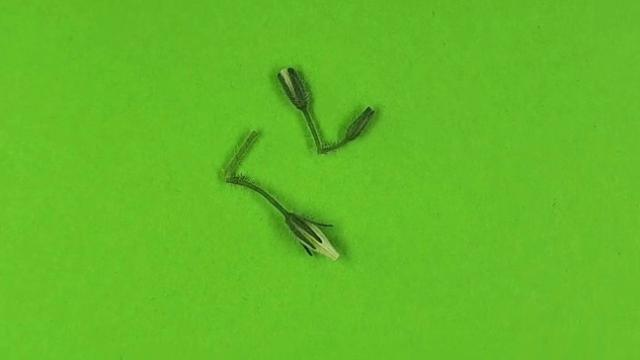Flower Bud: (287, 213, 340, 262), (340, 106, 376, 146), (277, 67, 309, 109)
